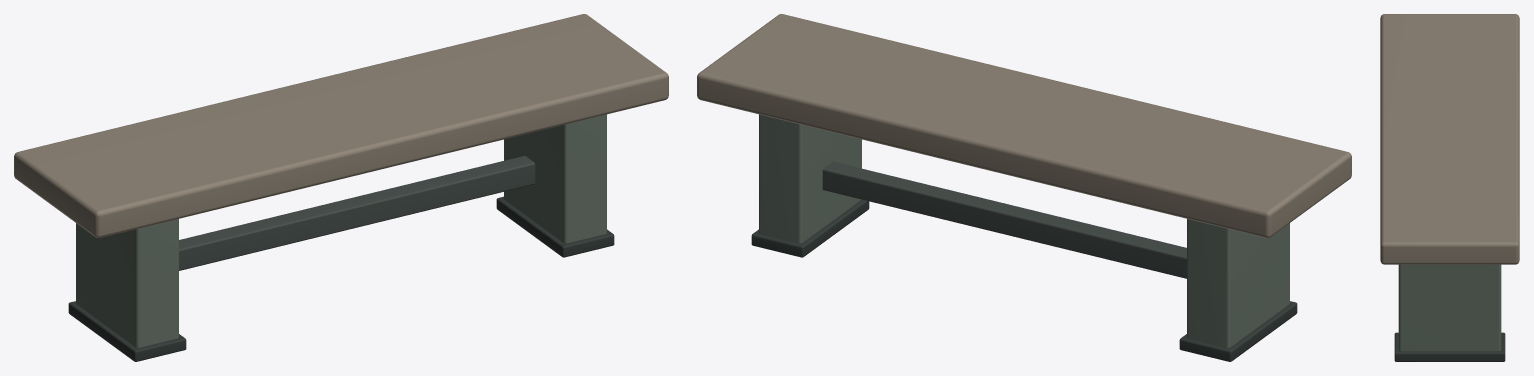
File: SM_Bench.glb
The picture shows the model from 3 angles, left to right: view 1: azimuth 30°, elevation 25°; view 2: azimuth 150°, elevation 25°; view 3: azimuth 270°, elevation 25°; orthographic projection. The views are drawn at different scales.
Visible parts, largest first — view 1: SM_Bench__Body; view 2: SM_Bench__Body; view 3: SM_Bench__Body.
Part boxes in pixels (left/top/right/bottom): SM_Bench__Body: left=14, top=14, right=668, bottom=361; SM_Bench__Body: left=697, top=14, right=1351, bottom=361; SM_Bench__Body: left=1380, top=14, right=1519, bottom=361.
Bounding box in the file's own units: 1.65 × 0.46 × 0.42.
